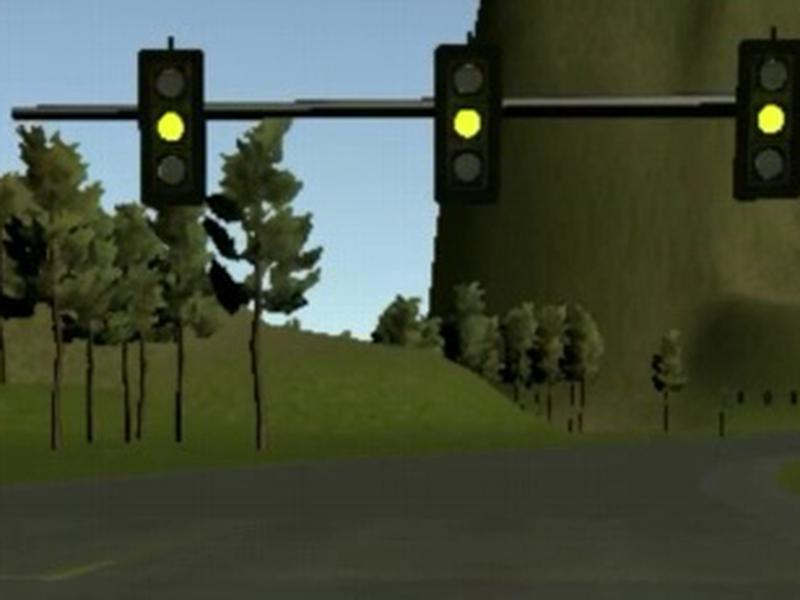Yellow: (432, 43, 500, 206), (137, 48, 206, 208), (733, 38, 800, 200)
